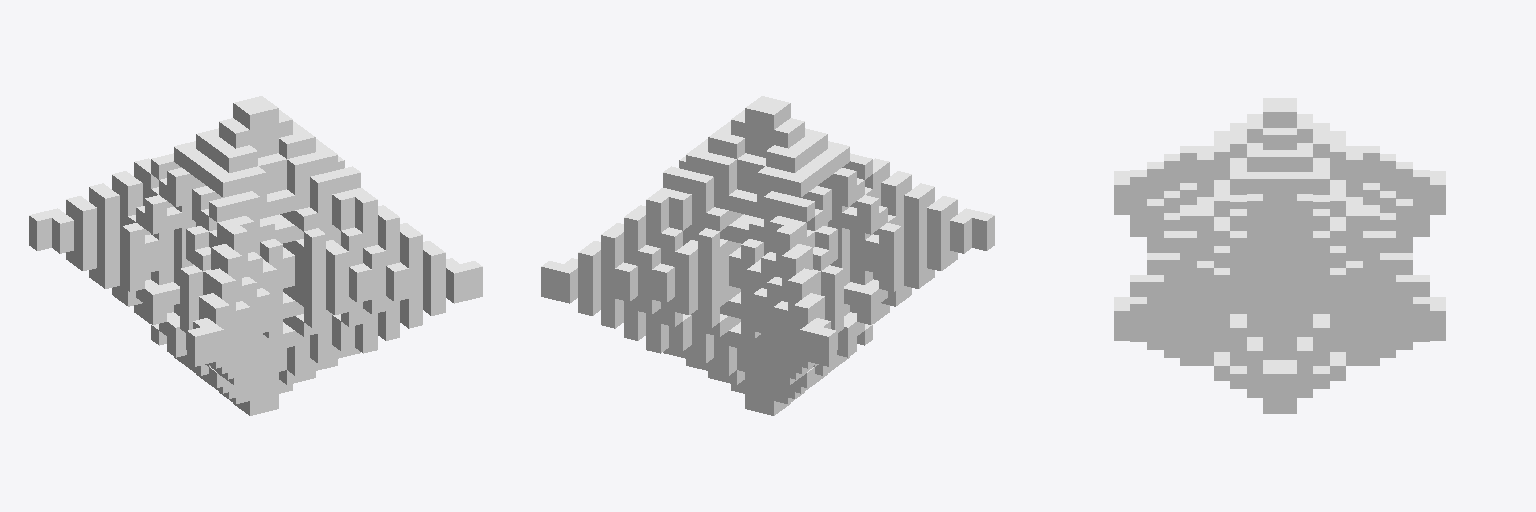
Rendered from MC_SmartBomb.obj.
3 renders of one model, left to right at view 1: azimuth 30°, elevation 25°; view 2: azimuth 150°, elevation 25°; view 3: azimuth 270°, elevation 25°, orthographic.
Visible parts, largest first — view 1: MC_SmartBomb; view 2: MC_SmartBomb; view 3: MC_SmartBomb.
Boxes of the visible parts, <box> form: MC_SmartBomb: <box>29,96,482,415</box>; MC_SmartBomb: <box>541,96,994,415</box>; MC_SmartBomb: <box>1114,98,1445,413</box>.
Bounding box in the file's own units: 20 × 20 × 20.